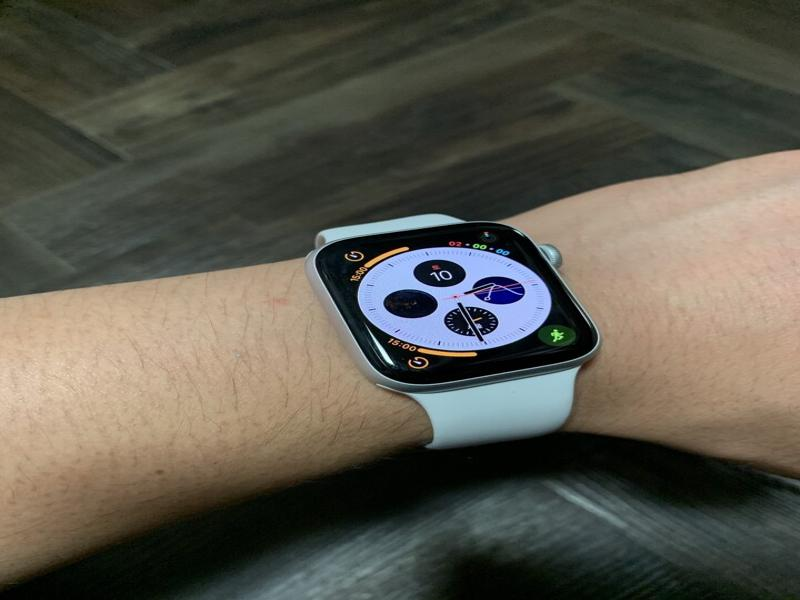watch: (306, 214, 597, 453)
